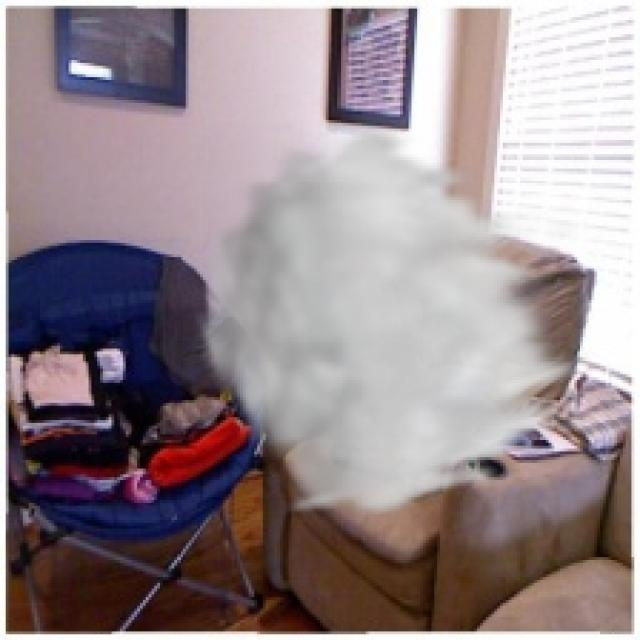smoke: (192, 123, 594, 520)
